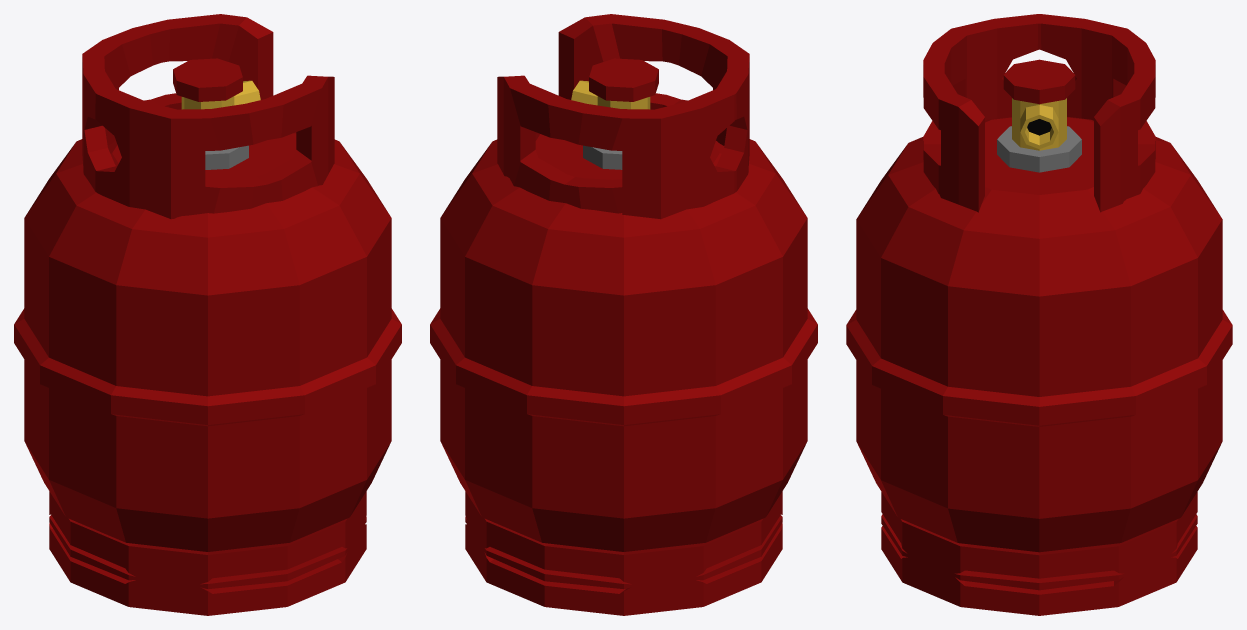
Rendered from bomboneGaz.fbx.
The picture shows the model from 3 angles, left to right: view 1: azimuth 30°, elevation 25°; view 2: azimuth 150°, elevation 25°; view 3: azimuth 270°, elevation 25°; orthographic projection.
Visible parts, largest first — view 1: Cylinder; view 2: Cylinder; view 3: Cylinder.
Part boxes in pixels (box(x1,y1,x2,y2)): Cylinder: box(14, 14, 401, 615); Cylinder: box(430, 14, 817, 615); Cylinder: box(846, 14, 1232, 615).
Size of the model in its own units: 137 by 187 by 137.
Materials: 1 (1 with a texture image).
